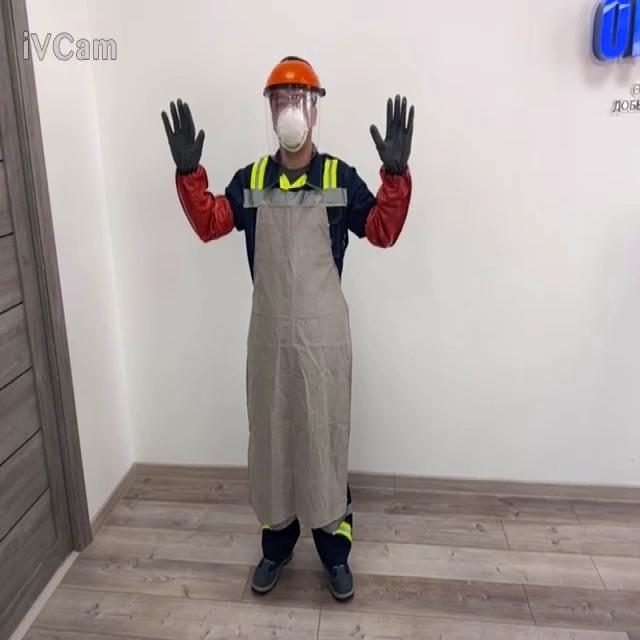Gloves: (160, 97, 234, 243), (591, 0, 639, 61)
Mask: (269, 91, 314, 153)
Safety Shoes: (250, 550, 292, 594), (325, 560, 354, 599)
Sleeve: (174, 162, 234, 242), (364, 163, 411, 248)
gloves: (369, 93, 414, 175), (161, 97, 205, 175)
